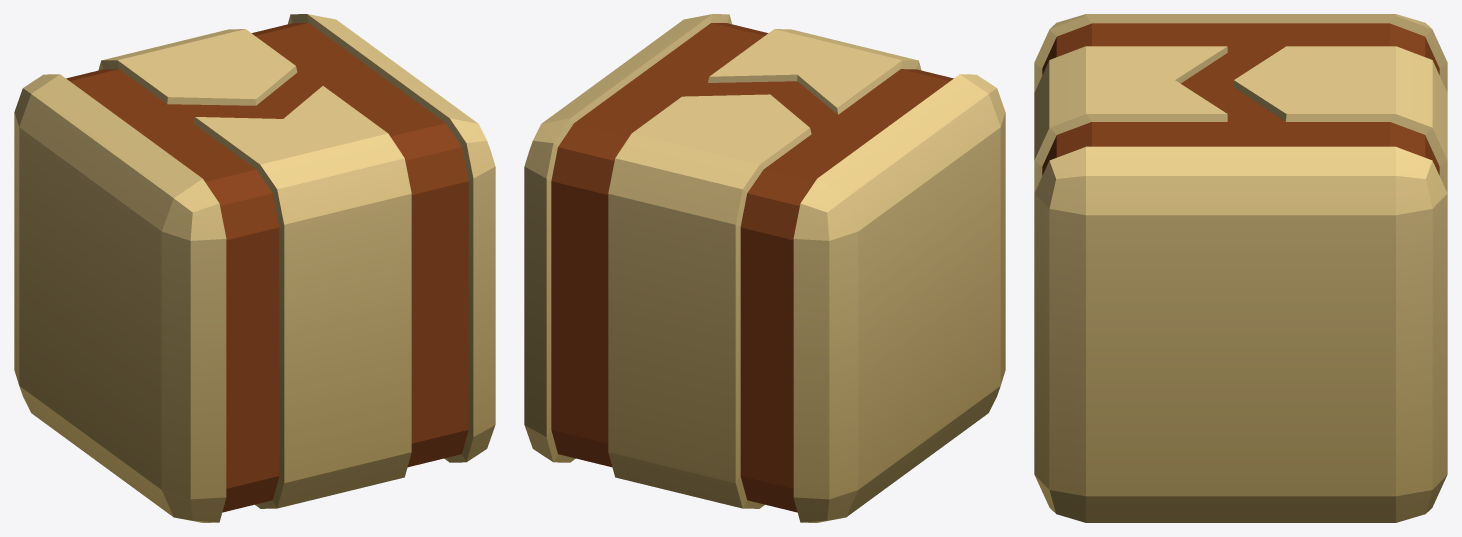
File: Tile_JalurBuntutLurusPutih.fbx
3 views of the same model, side by side, from view 1: azimuth 30°, elevation 25°; view 2: azimuth 150°, elevation 25°; view 3: azimuth 270°, elevation 25° (orthographic). The views are drawn at different scales.
Visible parts, largest first — view 1: Jalur Ular Lurus Putih; view 2: Jalur Ular Lurus Putih; view 3: Jalur Ular Lurus Putih.
Boxes of the visible parts, x1=… form: Jalur Ular Lurus Putih: x1=14, y1=14, x2=495, y2=522; Jalur Ular Lurus Putih: x1=524, y1=14, x2=1005, y2=522; Jalur Ular Lurus Putih: x1=1034, y1=14, x2=1447, y2=522.
Bounding box in the file's own units: 1 × 1 × 1.
1 material, 1 textured.
